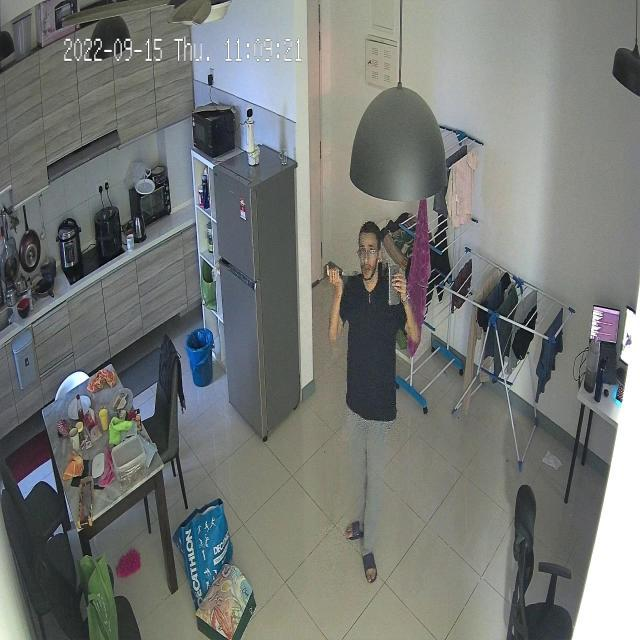Knife: (321, 258, 365, 288)
